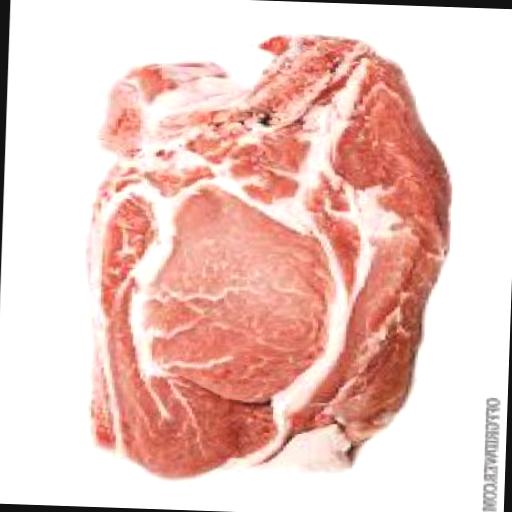biodegradable: (80, 26, 452, 486)
